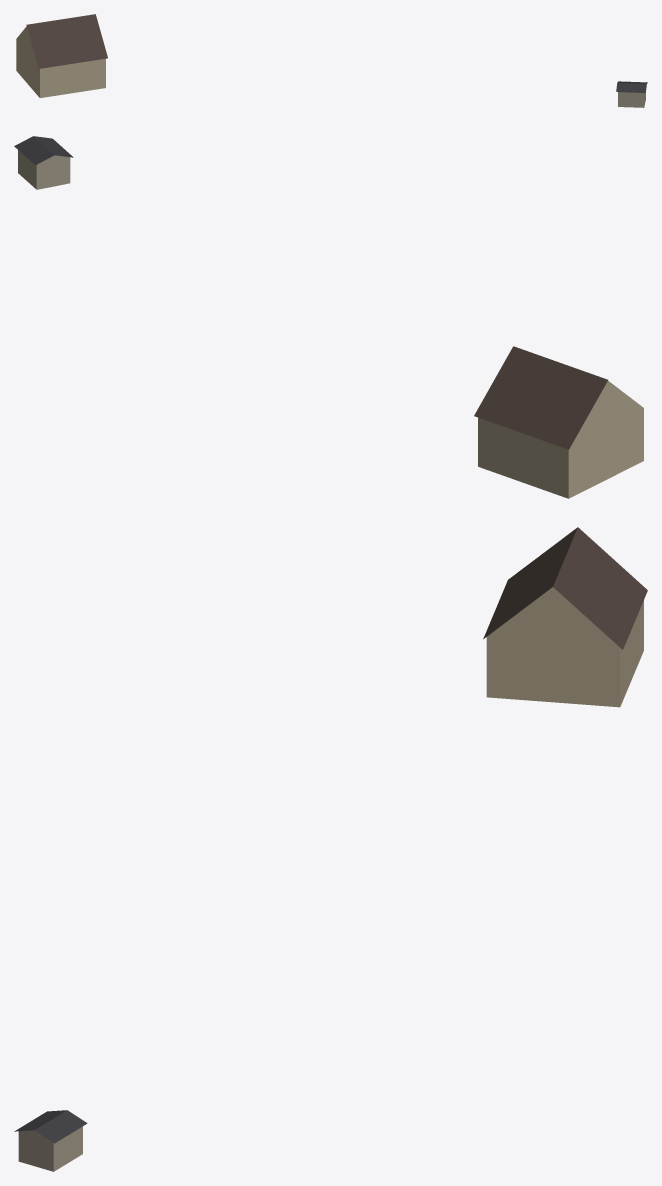
The picture shows the model from 3 angles, top to bottom: view 1: azimuth 30°, elevation 25°; view 2: azimuth 150°, elevation 25°; view 3: azimuth 270°, elevation 25°; orthographic projection. The views are drawn at different scales.
Visible parts, largest first — view 1: buildings; view 2: buildings; view 3: buildings.
Part boxes in pixels (x1=…): buildings: x1=16, y1=14, x2=647, y2=107; buildings: x1=14, y1=136, x2=643, y2=498; buildings: x1=14, y1=527, x2=647, y2=1171.
Size of the model in its own units: 99.71 by 18.15 by 56.96.
